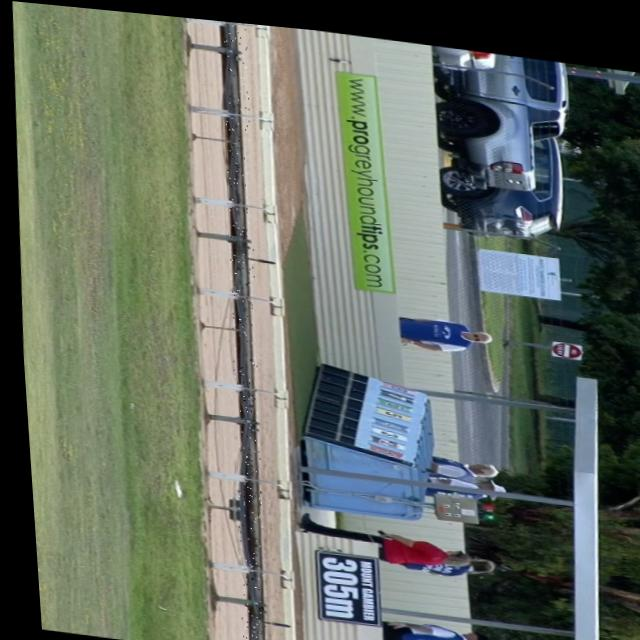rail: (221, 17, 255, 640)
